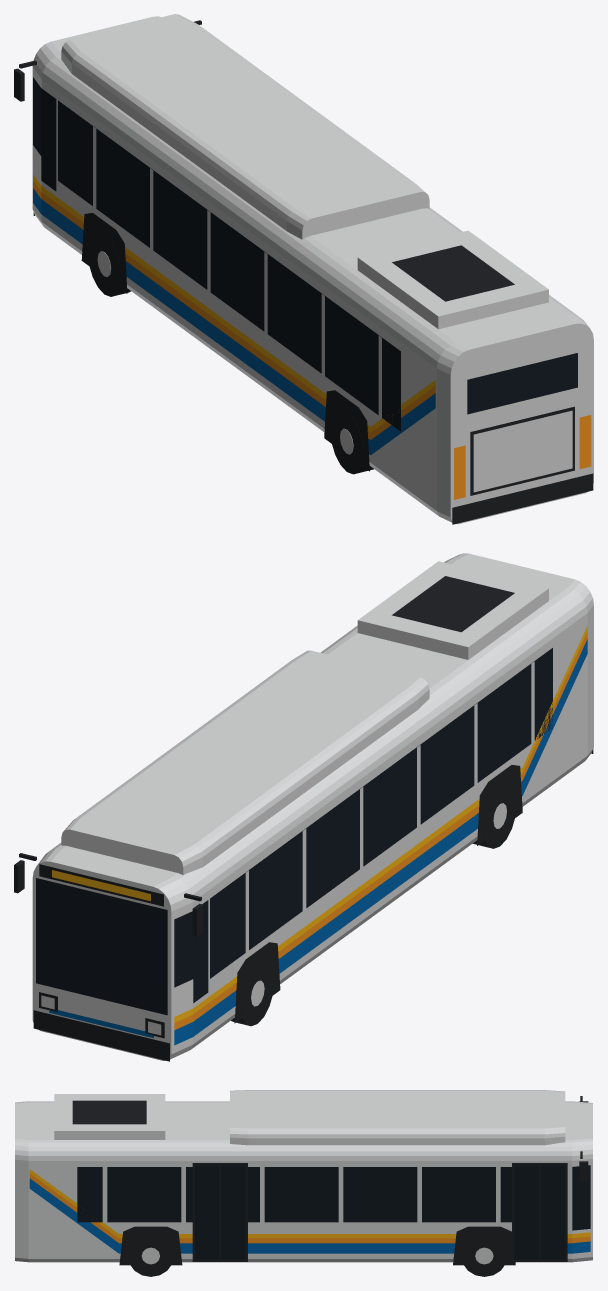
File: marta-bus.glb
3 renders of one model, top to bottom at view 1: azimuth 30°, elevation 25°; view 2: azimuth 150°, elevation 25°; view 3: azimuth 270°, elevation 25°, orthographic. The views are drawn at different scales.
Visible parts, largest first — view 1: MARTA_Bus; view 2: MARTA_Bus; view 3: MARTA_Bus.
Part boxes in pixels (bbox=[...]): MARTA_Bus: bbox=[14, 14, 593, 524]; MARTA_Bus: bbox=[14, 553, 593, 1061]; MARTA_Bus: bbox=[15, 1090, 592, 1276].
Bounding box in the file's own units: 3.14 × 3.38 × 12.54.
